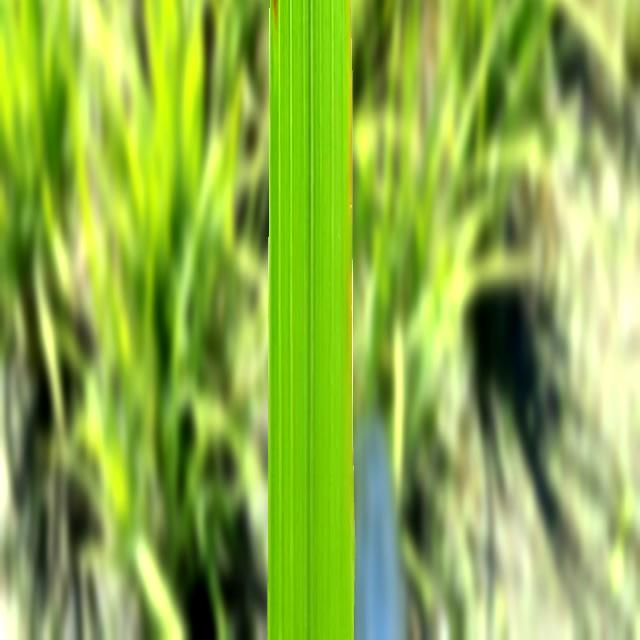NBS: (272, 0, 277, 18)
